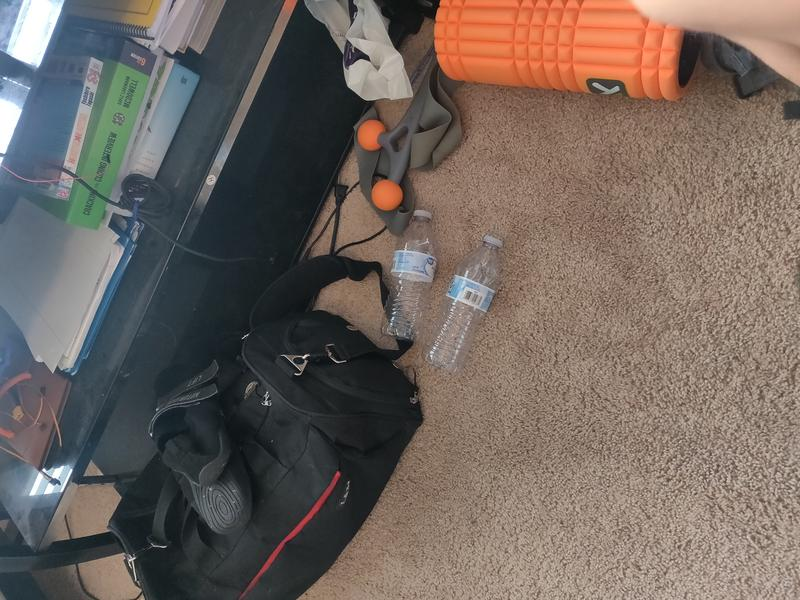bottle: (423, 234, 504, 371), (380, 209, 438, 340)
